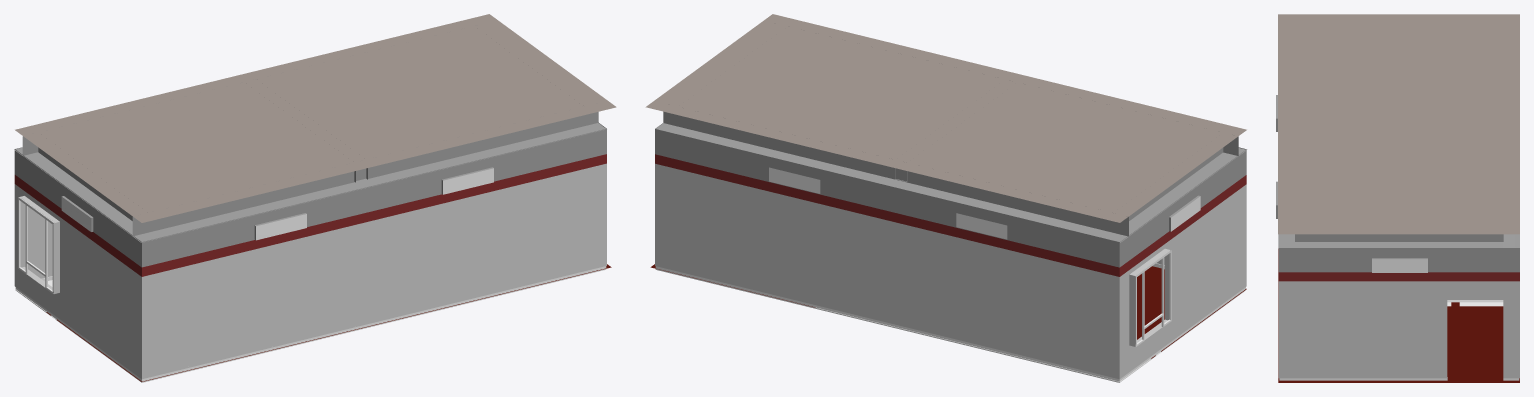
The model's file is SM_H_Building_Tide_Canteen_01_ATLAS.fbx.
3 views of the same model, side by side, from view 1: azimuth 30°, elevation 25°; view 2: azimuth 150°, elevation 25°; view 3: azimuth 270°, elevation 25° (orthographic). The views are drawn at different scales.
Parts seen in each view (by area): view 1: SM_H_Building_Tide_Canteen_01_ATLAS; view 2: SM_H_Building_Tide_Canteen_01_ATLAS; view 3: SM_H_Building_Tide_Canteen_01_ATLAS.
Boxes of the visible parts, x1,y1,x2,y2 form: SM_H_Building_Tide_Canteen_01_ATLAS: [14, 14, 616, 382]; SM_H_Building_Tide_Canteen_01_ATLAS: [645, 14, 1247, 382]; SM_H_Building_Tide_Canteen_01_ATLAS: [1276, 14, 1519, 382].
Size of the model in its own units: 1513 by 699 by 482.
